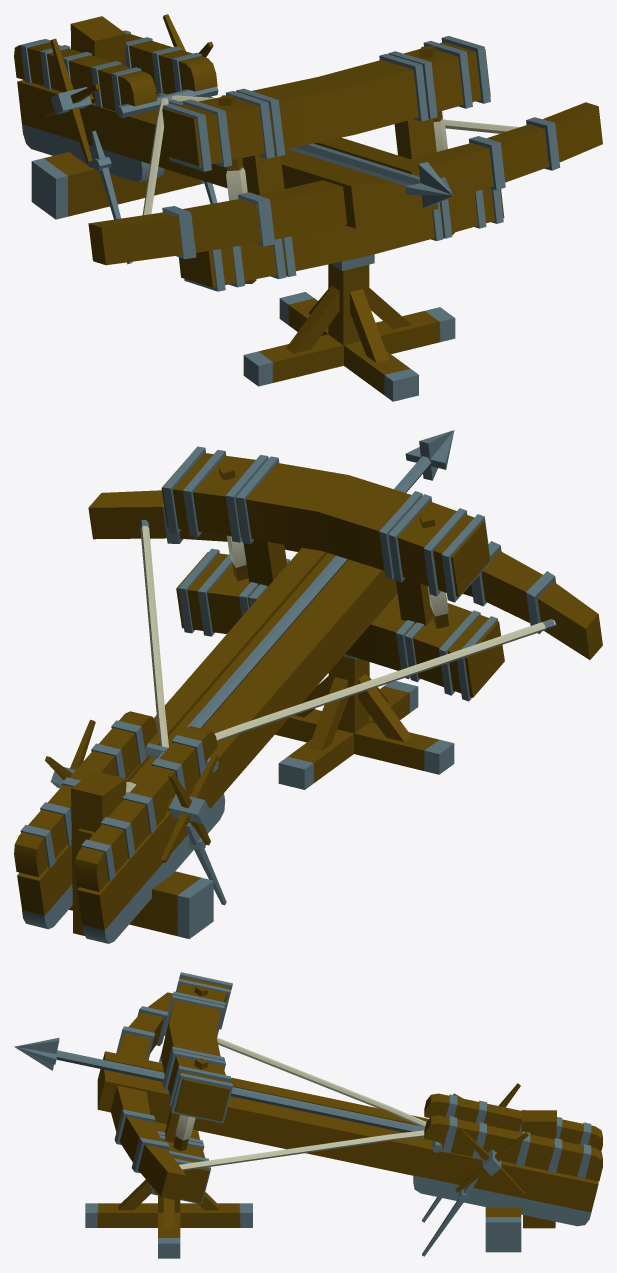
The picture shows the model from 3 angles, top to bottom: view 1: azimuth 30°, elevation 25°; view 2: azimuth 150°, elevation 25°; view 3: azimuth 270°, elevation 25°; orthographic projection. The views are drawn at different scales.
Parts seen in each view (by area): view 1: Geode; view 2: Geode; view 3: Geode.
Boxes of the visible parts, x1,y1,x2,y2 form: Geode: [14, 14, 602, 401]; Geode: [14, 430, 602, 943]; Geode: [14, 972, 602, 1258].
Size of the model in its own units: 1.44 by 0.8144 by 2.
1 material, 1 textured.
